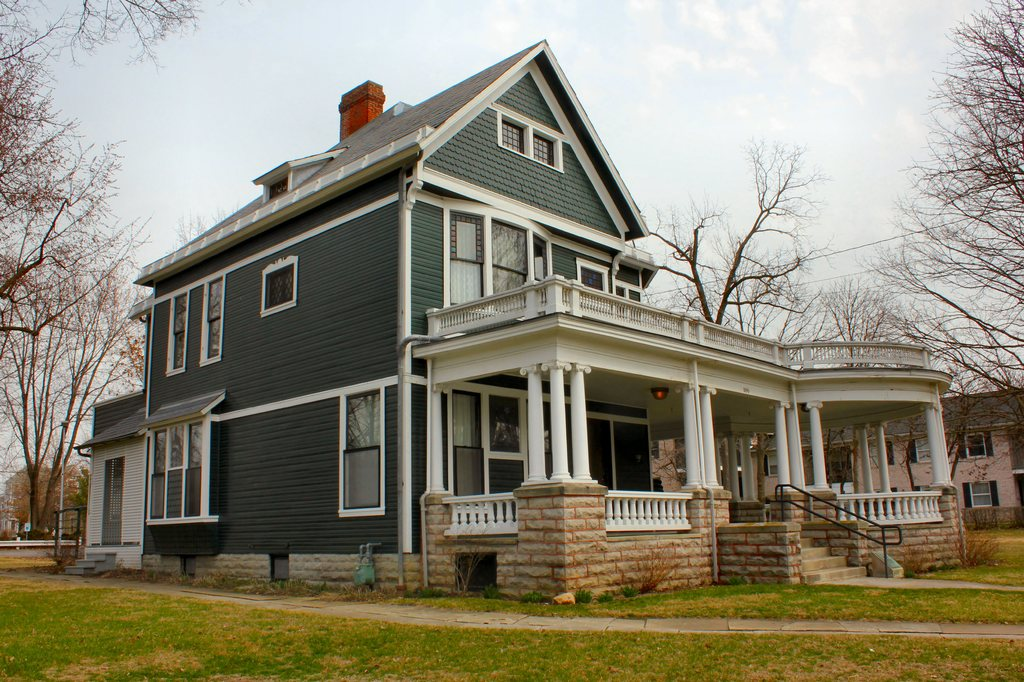Tree: (851, 0, 1023, 373), (0, 194, 154, 556), (626, 128, 814, 331), (777, 266, 937, 496), (0, 151, 112, 340), (0, 0, 100, 206), (32, 0, 209, 83), (904, 341, 983, 486)
